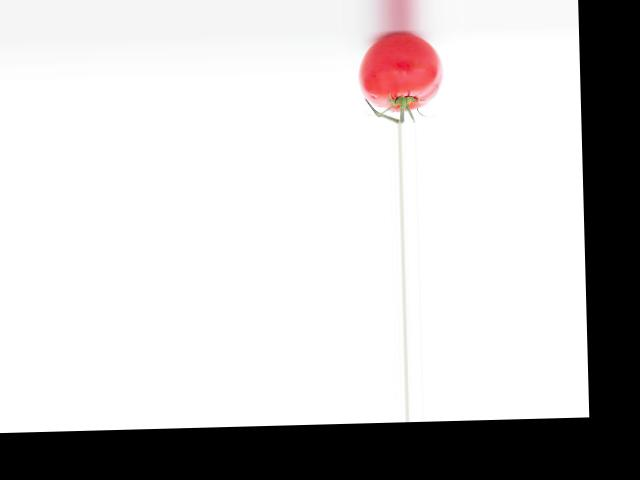tomato: (358, 31, 445, 112)
